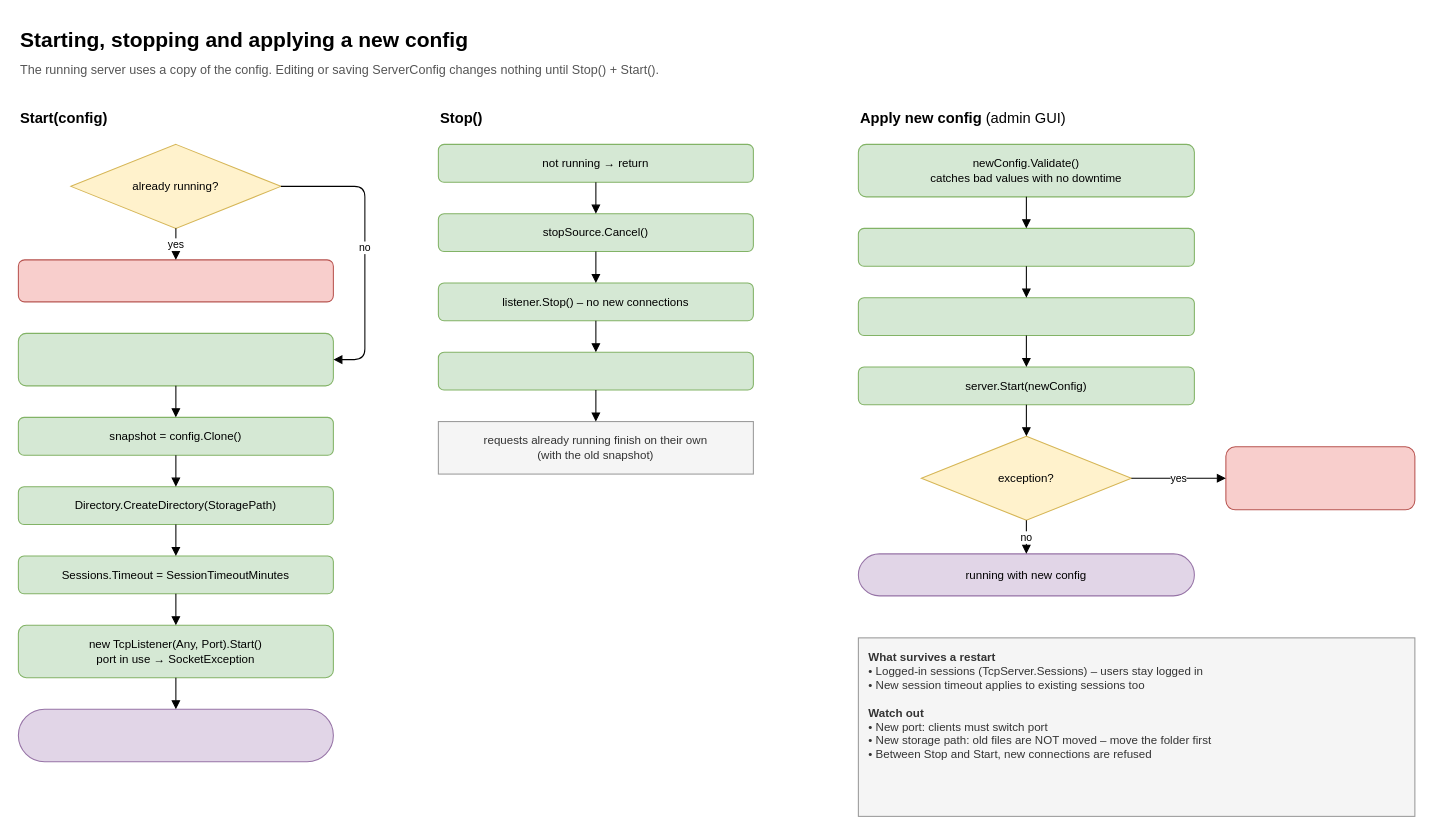
The diagram is 1433 pixels wide and 835 high, and some of its shapes have lost their labels. The centre of each missing label's shape, as x and y in pixels:
acceptLoop = AcceptLoop(listener, snapshot) log "Listening on port ...": (175,735)
await acceptLoop: (595,370)
await server.Stop(): (1025,316)
config.Validate() bad value → InvalidDataException: (175,359)
newConfig.Save(path) – optional: (1025,246)
show error server.Start(oldConfig): (1320,478)
throw InvalidOperationException: (175,280)
